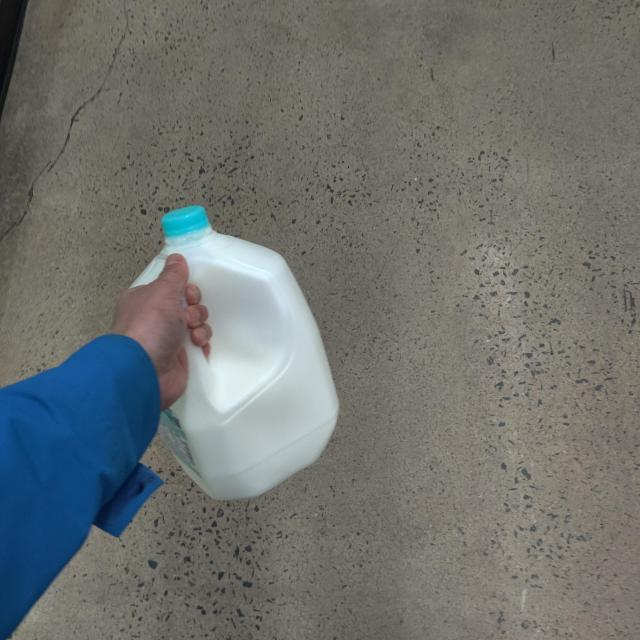Milk: (114, 188, 358, 506)
